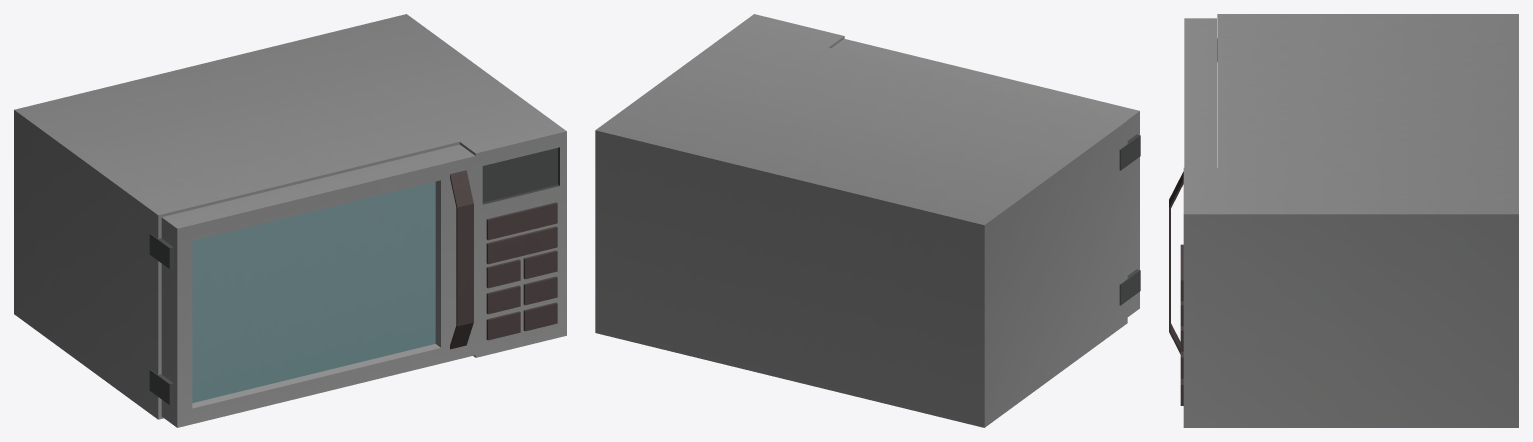
The model's file is Microwave.fbx.
The picture shows the model from 3 angles, left to right: view 1: azimuth 30°, elevation 25°; view 2: azimuth 150°, elevation 25°; view 3: azimuth 270°, elevation 25°; orthographic projection. The views are drawn at different scales.
Parts seen in each view (by area): view 1: Kit_1_microwave; view 2: Kit_1_microwave; view 3: Kit_1_microwave.
Part boxes in pixels (x1=…): Kit_1_microwave: x1=14, y1=14, x2=566, y2=427; Kit_1_microwave: x1=595, y1=14, x2=1140, y2=427; Kit_1_microwave: x1=1169, y1=14, x2=1518, y2=427.
Size of the model in its own units: 46.08 by 22.88 by 33.93.
